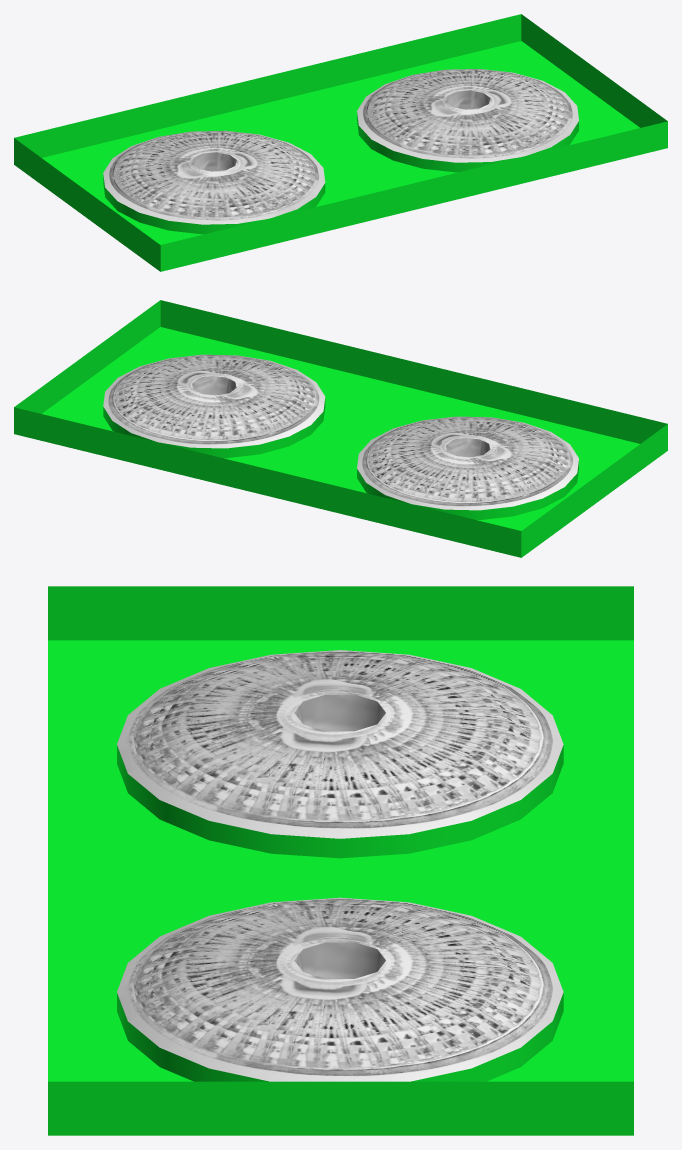
The model's file is LightCeiling01_8.FBX.
3 renders of one model, top to bottom at view 1: azimuth 30°, elevation 25°; view 2: azimuth 150°, elevation 25°; view 3: azimuth 270°, elevation 25°, orthographic. The views are drawn at different scales.
Parts seen in each view (by area): view 1: LightCeiling01_8; view 2: LightCeiling01_8; view 3: LightCeiling01_8.
Part boxes in pixels (x1,y1,x2,y2): LightCeiling01_8: (14,14,667,271); LightCeiling01_8: (14,300,667,557); LightCeiling01_8: (48,586,633,1135).
Bounding box in the file's own units: 30 × 1.52 × 15.
